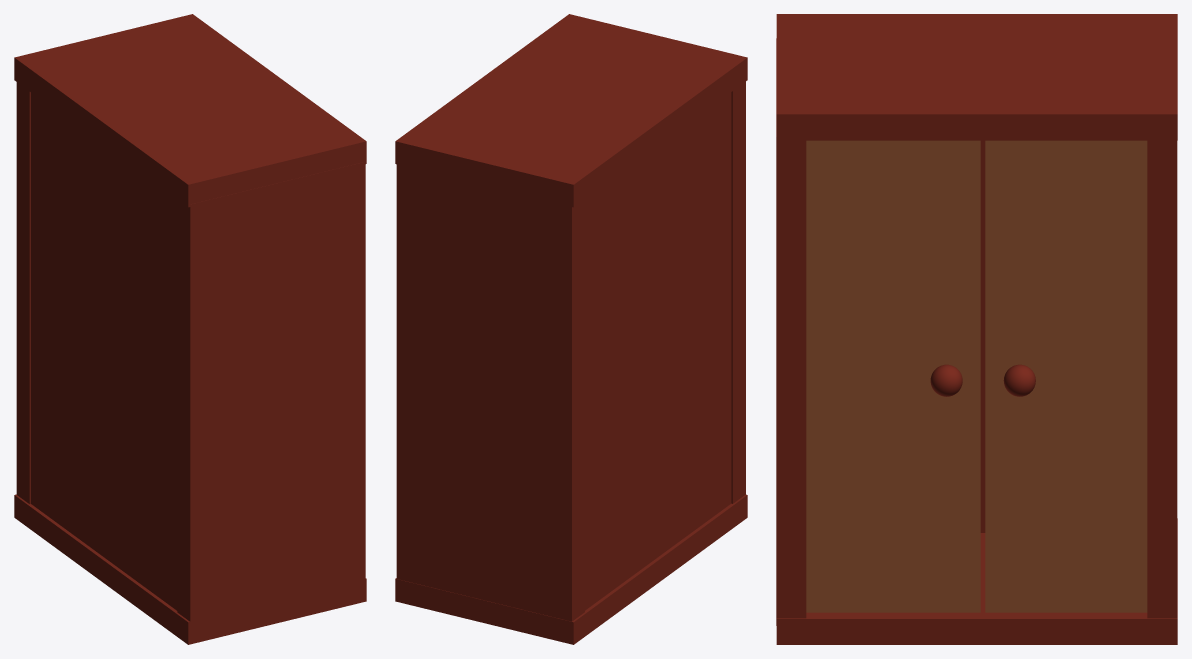
File: Wardrobe.fbx
3 renders of one model, left to right at view 1: azimuth 30°, elevation 25°; view 2: azimuth 150°, elevation 25°; view 3: azimuth 270°, elevation 25°, orthographic. The views are drawn at different scales.
Visible parts, largest first — view 1: Cube.001, Cube, Cube.005, Cube.006, Cube.002; view 2: Cube.002, Cube, Cube.005, Cube.006, Cube.001; view 3: Cube.003, Cube.004, Cube.005, Cube.001, Cube.002, Cube.006, Cube, Sphere.001, Sphere.
Boxes of the visible parts, x1,y1,x2,y2 form: Cube.001: [177, 161, 365, 628]; Cube: [31, 92, 177, 610]; Cube.005: [14, 14, 366, 207]; Cube.006: [14, 494, 366, 644]; Cube.002: [16, 82, 30, 503]; Cube.002: [396, 164, 584, 621]; Cube: [585, 92, 731, 610]; Cube.005: [395, 14, 747, 207]; Cube.006: [395, 494, 747, 644]; Cube.001: [731, 81, 745, 503]; Cube.003: [806, 140, 980, 612]; Cube.004: [985, 140, 1147, 612]; Cube.005: [776, 14, 1177, 140]; Cube.001: [776, 38, 806, 625]; Cube.002: [1147, 140, 1177, 618]; Cube.006: [776, 518, 1177, 644]; Cube: [980, 140, 985, 532]; Sphere.001: [930, 364, 962, 396]; Sphere: [1003, 364, 1035, 396].
Size of the model in its own units: 575 by 1344 by 921.
